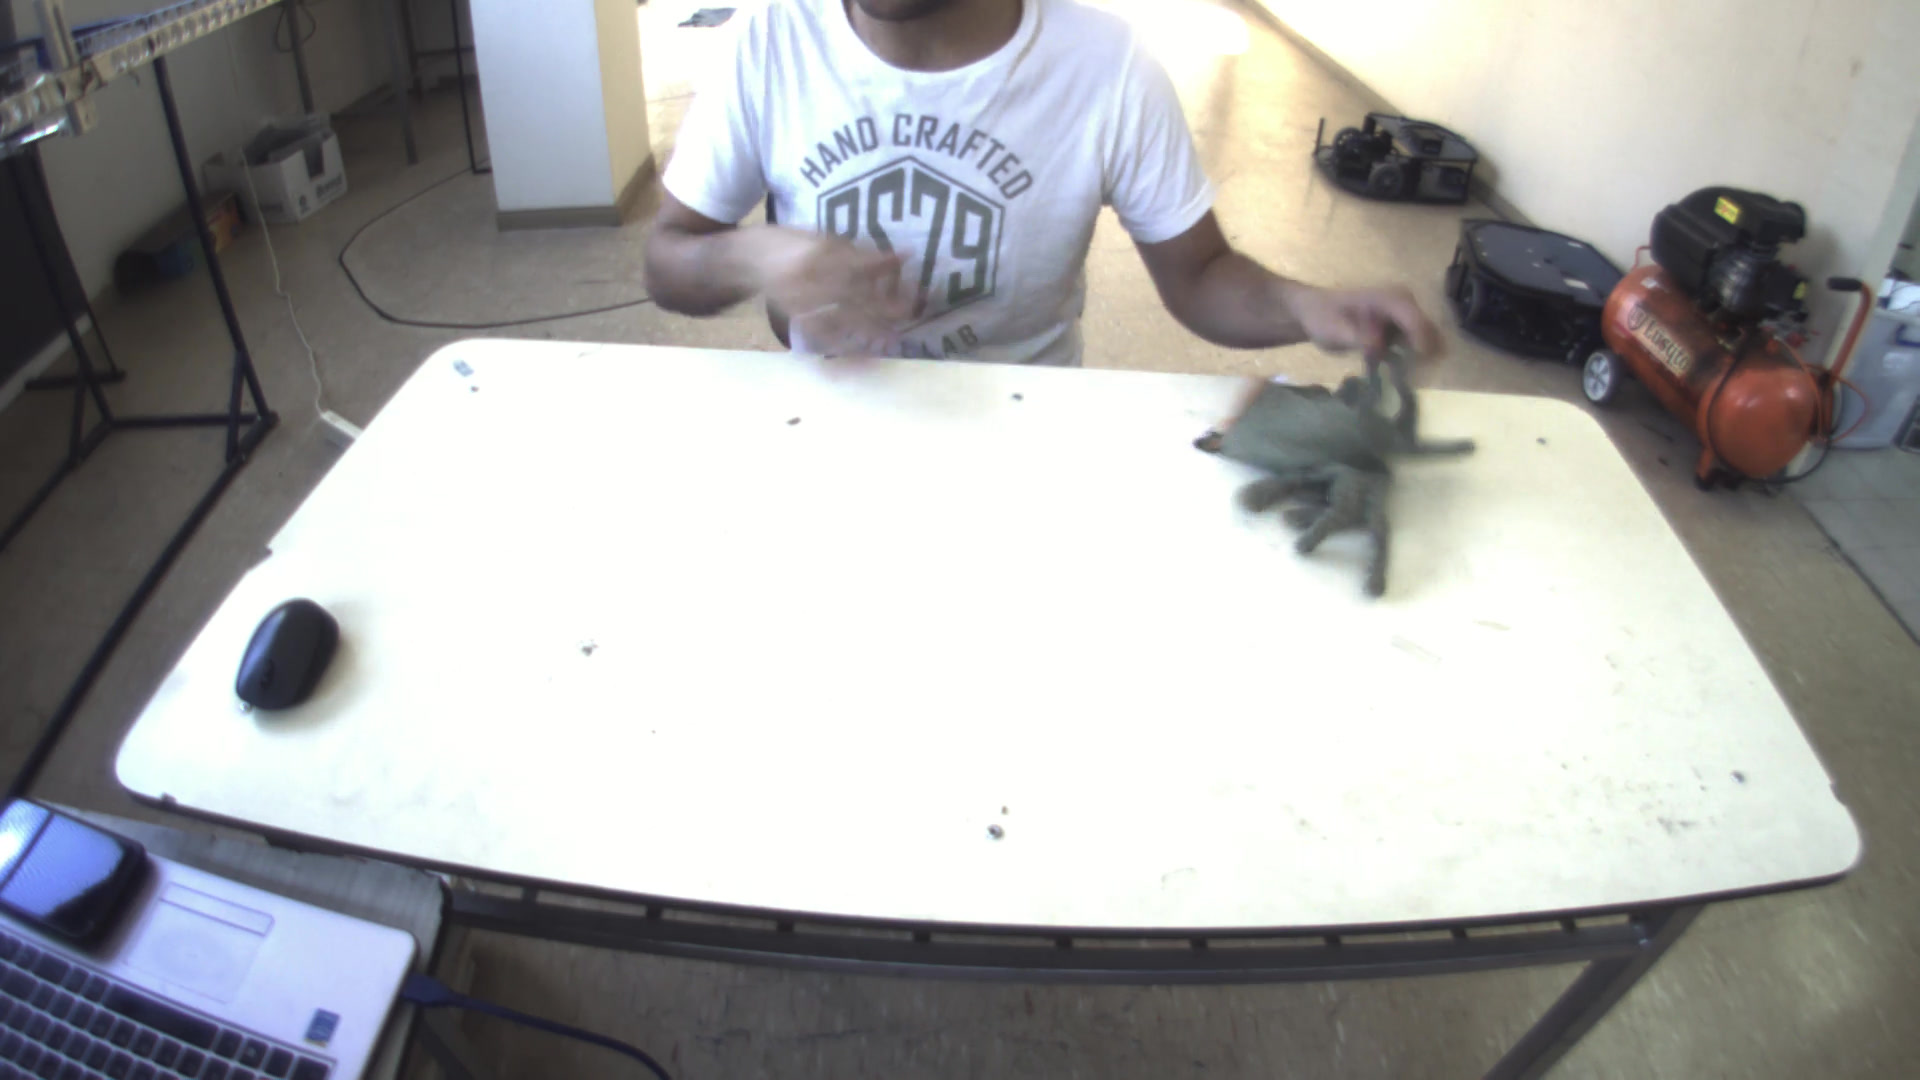hand: (760, 218, 931, 360), (1274, 278, 1468, 376)
